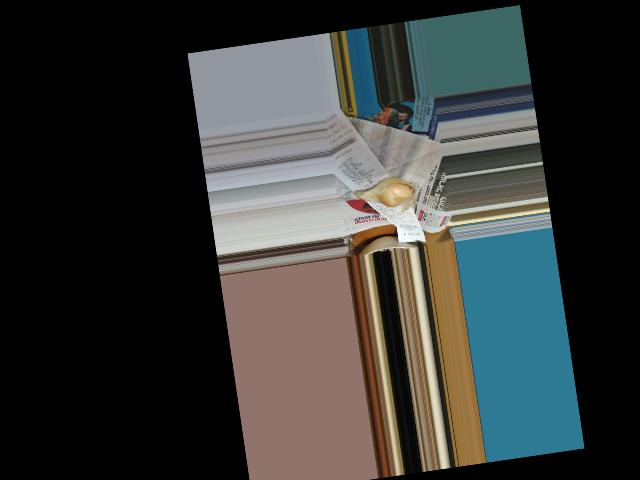onion: (360, 176, 417, 210)
